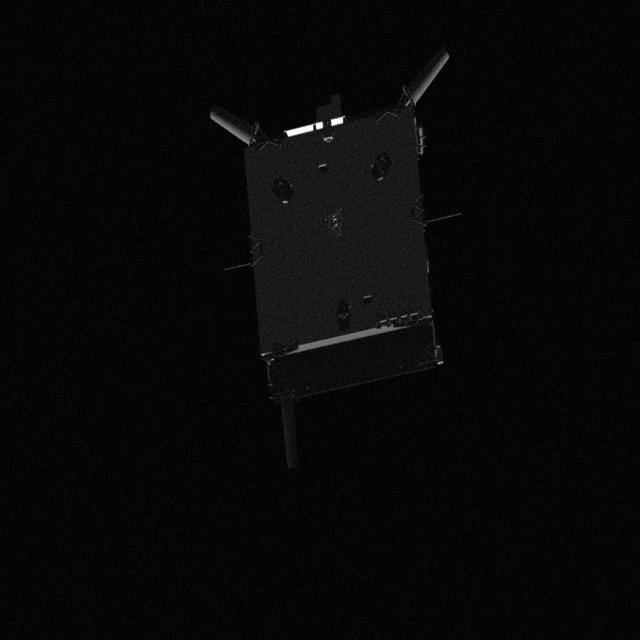satellite: (204, 48, 460, 476)
